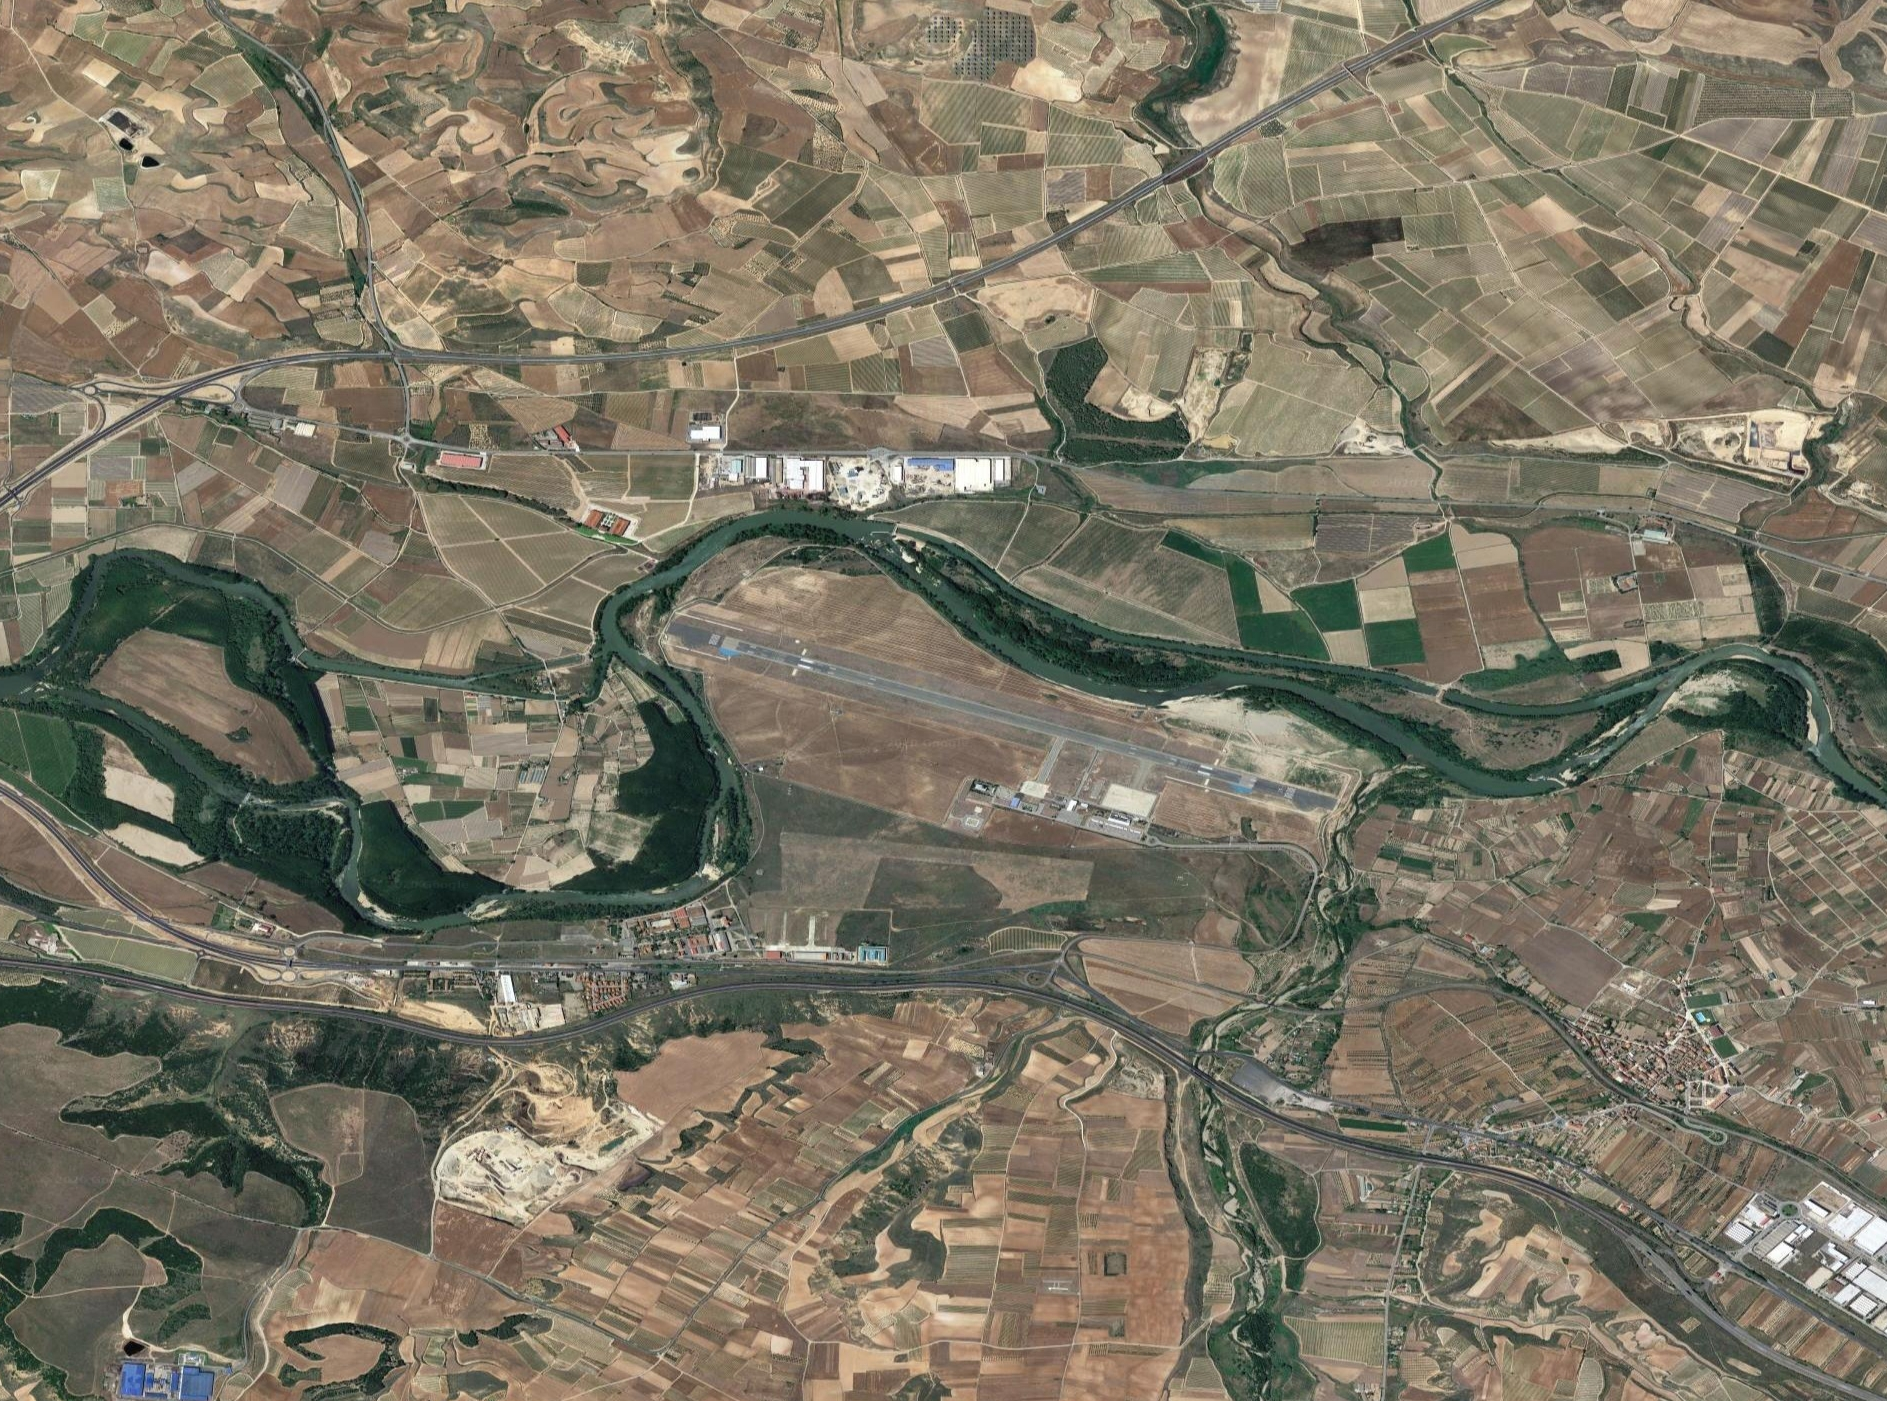airport: (659, 615, 1344, 848)
industrial: (692, 449, 1030, 511), (1731, 1193, 1887, 1319)
motorway: (1282, 1, 1484, 107), (1, 787, 137, 920), (1, 405, 138, 515), (587, 311, 833, 368), (233, 989, 464, 1049), (1, 943, 231, 1004), (838, 253, 1001, 337), (1257, 1090, 1426, 1171), (141, 343, 318, 419), (1125, 1021, 1256, 1118), (1423, 1154, 1597, 1223), (1142, 107, 1284, 191), (999, 185, 1139, 268), (676, 976, 977, 1012), (465, 996, 673, 1049), (315, 336, 584, 372), (977, 970, 1125, 1029)
